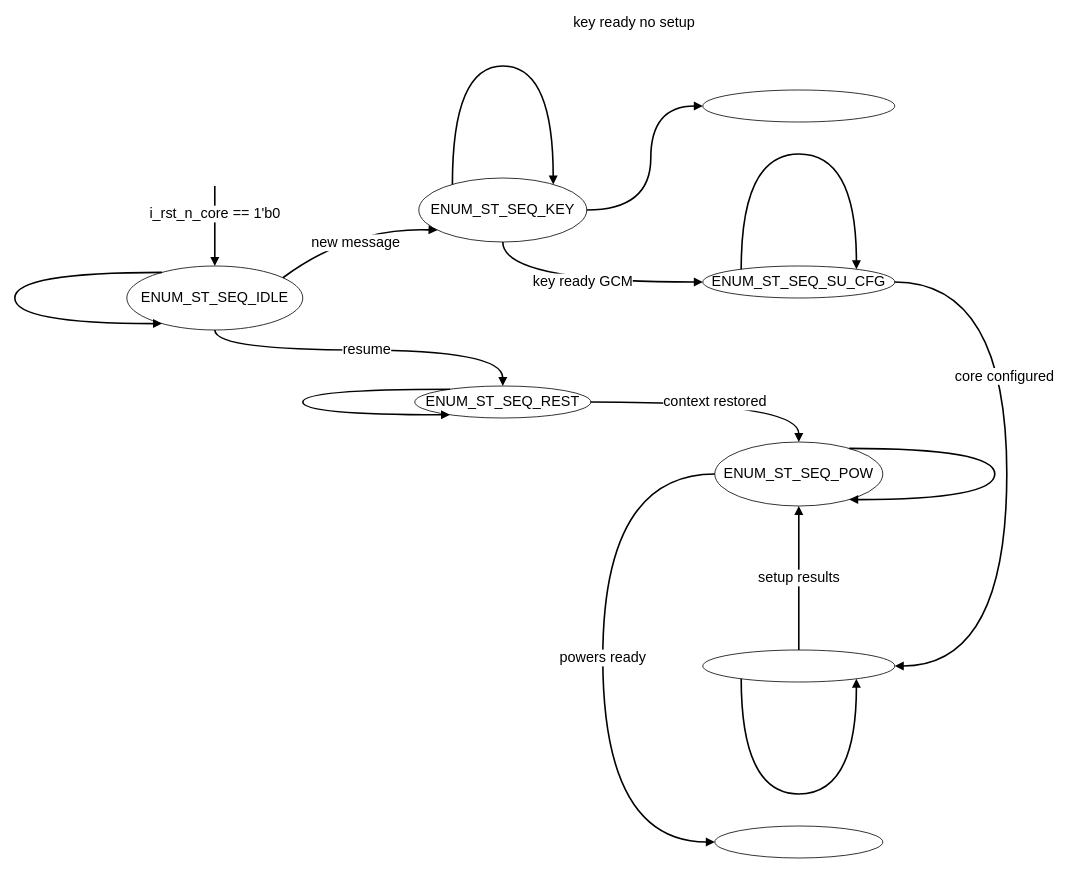
Some shapes in this 1067 by 872 pixel diagram are drawn without their labels. The shapes that lost their labels are listed below. From the top down, each one's box as (x1, y1, x2, y2) in pixels, then its label:
(702, 89, 895, 122): ENUM_ST_SEQ_PY_CFG
(702, 649, 895, 682): ENUM_ST_SEQ_SU_RUN
(714, 825, 883, 858): ENUM_ST_SEQ_AAD
